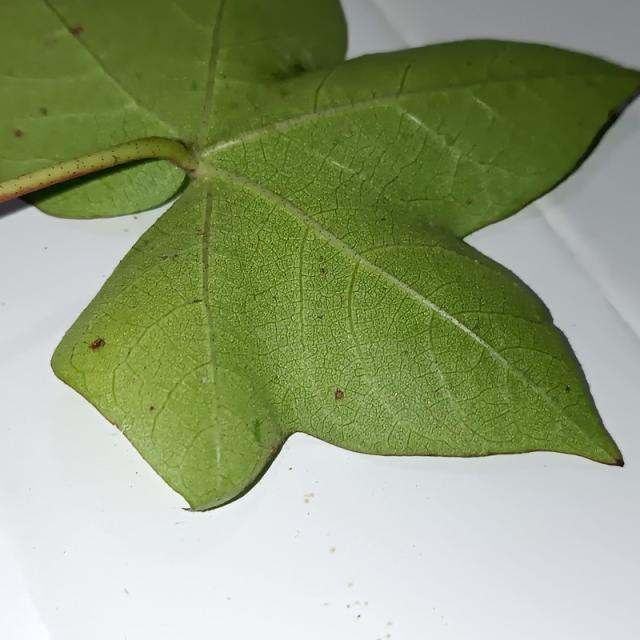Bacterial_Blight: (44, 150, 123, 181), (69, 339, 102, 381), (17, 166, 65, 189), (84, 330, 116, 360), (458, 277, 488, 299), (310, 248, 331, 278), (470, 222, 493, 234), (607, 105, 622, 120), (177, 139, 190, 151), (279, 86, 290, 98), (186, 163, 198, 174), (111, 420, 122, 431), (202, 301, 211, 312), (110, 153, 119, 164), (98, 154, 107, 165), (167, 253, 179, 261), (39, 107, 48, 116), (14, 129, 23, 138), (268, 446, 276, 456), (159, 254, 170, 261), (191, 79, 198, 90), (75, 159, 83, 168), (318, 254, 326, 263), (74, 26, 83, 34), (533, 313, 541, 322), (195, 229, 205, 236), (424, 451, 438, 456), (192, 298, 203, 304), (181, 507, 194, 512), (120, 424, 127, 433), (434, 390, 441, 397), (133, 142, 139, 150), (317, 314, 324, 320), (466, 199, 473, 205), (565, 385, 571, 392), (273, 295, 278, 303), (382, 283, 388, 289), (72, 170, 78, 175), (149, 406, 155, 411), (123, 228, 129, 233), (381, 217, 386, 222), (133, 215, 138, 220), (474, 259, 479, 264), (47, 173, 51, 177), (44, 246, 48, 250)
Cotton: (0, 0, 639, 508)
